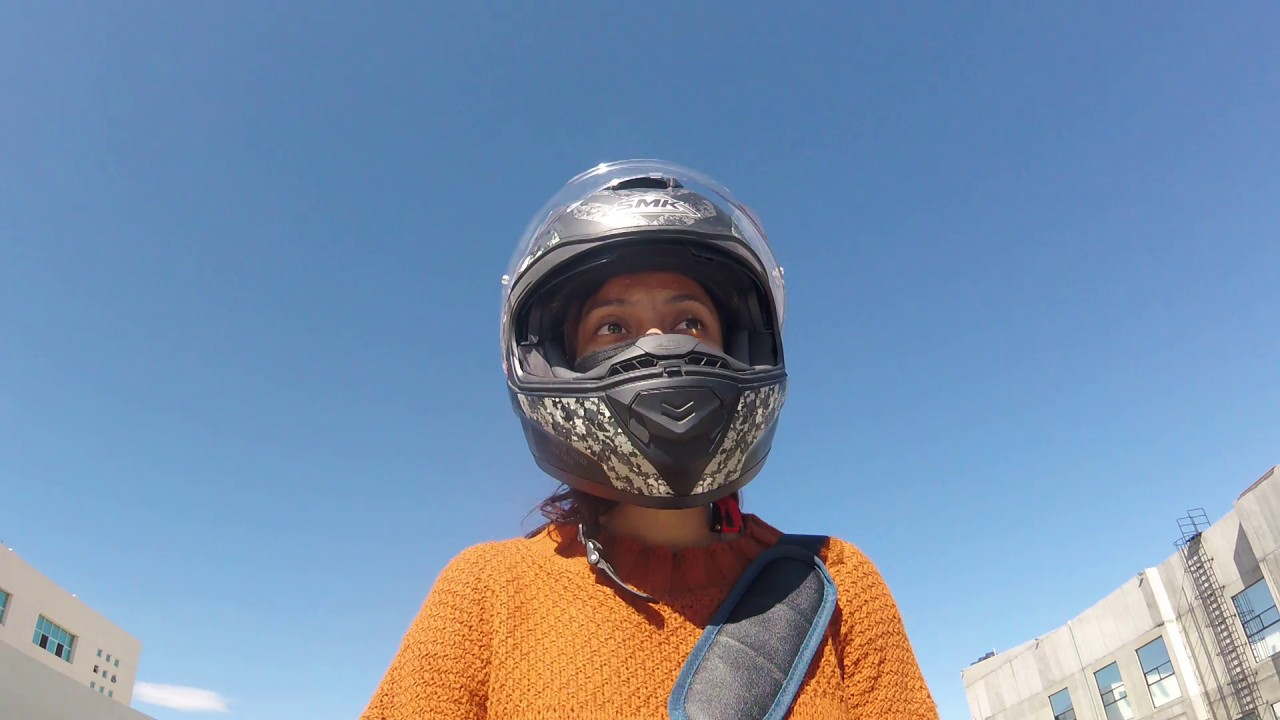With Helmet: (482, 158, 797, 512)
